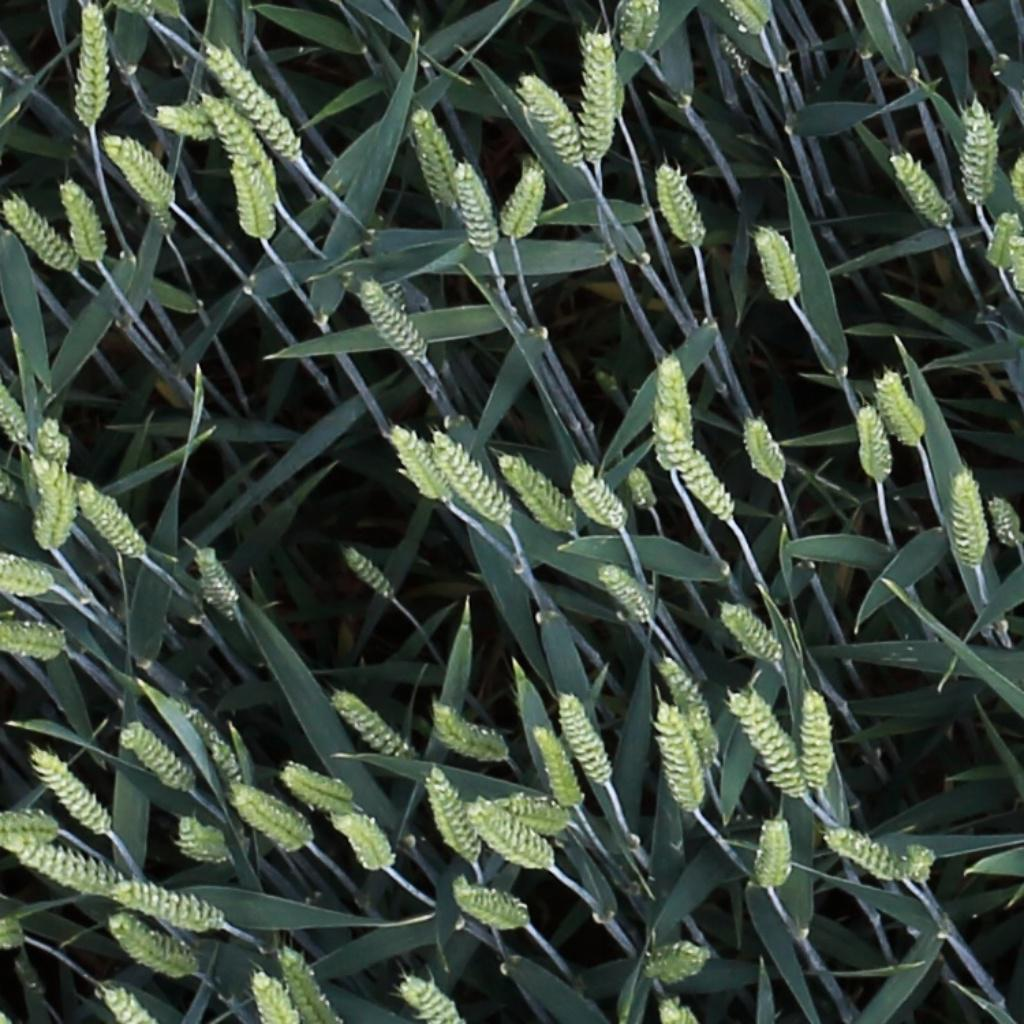0-0: (202, 36, 303, 161), (730, 690, 811, 804), (211, 90, 289, 206), (431, 425, 514, 527), (166, 693, 249, 794), (28, 746, 113, 842), (519, 71, 590, 171), (1, 838, 124, 895), (656, 655, 720, 759), (795, 676, 847, 797), (666, 439, 740, 524), (360, 278, 432, 365), (1, 193, 79, 273), (501, 453, 577, 535), (425, 765, 484, 869), (25, 460, 89, 555), (650, 344, 698, 470), (334, 690, 415, 764), (658, 699, 707, 819), (559, 690, 617, 791), (75, 481, 147, 562), (389, 420, 456, 506), (891, 146, 957, 229), (122, 724, 196, 797), (410, 103, 460, 210), (874, 358, 932, 450), (79, 1, 118, 137), (472, 805, 552, 871), (275, 940, 337, 1024), (531, 720, 585, 816), (103, 132, 174, 202), (431, 703, 509, 764), (454, 154, 499, 259), (570, 458, 630, 535), (828, 831, 914, 884), (234, 790, 311, 849), (656, 157, 705, 248), (113, 888, 223, 928), (58, 173, 105, 266), (720, 602, 787, 666), (230, 148, 273, 243), (599, 562, 659, 629), (111, 923, 185, 977), (334, 812, 393, 879), (501, 159, 548, 243), (849, 396, 892, 486), (757, 219, 802, 304), (0, 520, 53, 592), (192, 543, 243, 614), (745, 410, 791, 488), (498, 792, 577, 835), (342, 543, 398, 603), (453, 886, 531, 929), (596, 25, 631, 119), (954, 466, 985, 572), (281, 768, 354, 813), (587, 30, 611, 165), (965, 95, 992, 208), (400, 974, 460, 1022), (249, 966, 293, 1024), (177, 819, 230, 866), (0, 546, 54, 592), (711, 25, 756, 80), (143, 183, 180, 248), (0, 374, 31, 450), (984, 490, 1022, 551), (761, 816, 789, 898), (987, 204, 1019, 271), (625, 460, 662, 516), (623, 0, 656, 60), (37, 425, 68, 488), (101, 983, 148, 1024), (0, 413, 21, 503), (0, 628, 66, 656), (157, 105, 218, 135), (653, 950, 708, 981), (0, 812, 57, 841), (729, 0, 772, 35), (905, 845, 937, 887), (659, 993, 696, 1024), (0, 924, 24, 946)
